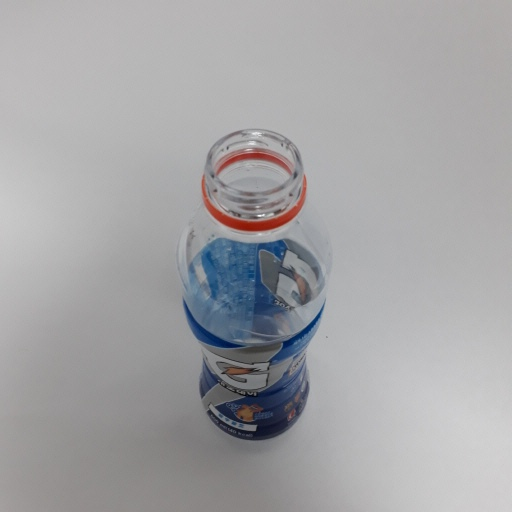Plastic_0: (173, 126, 336, 443)
